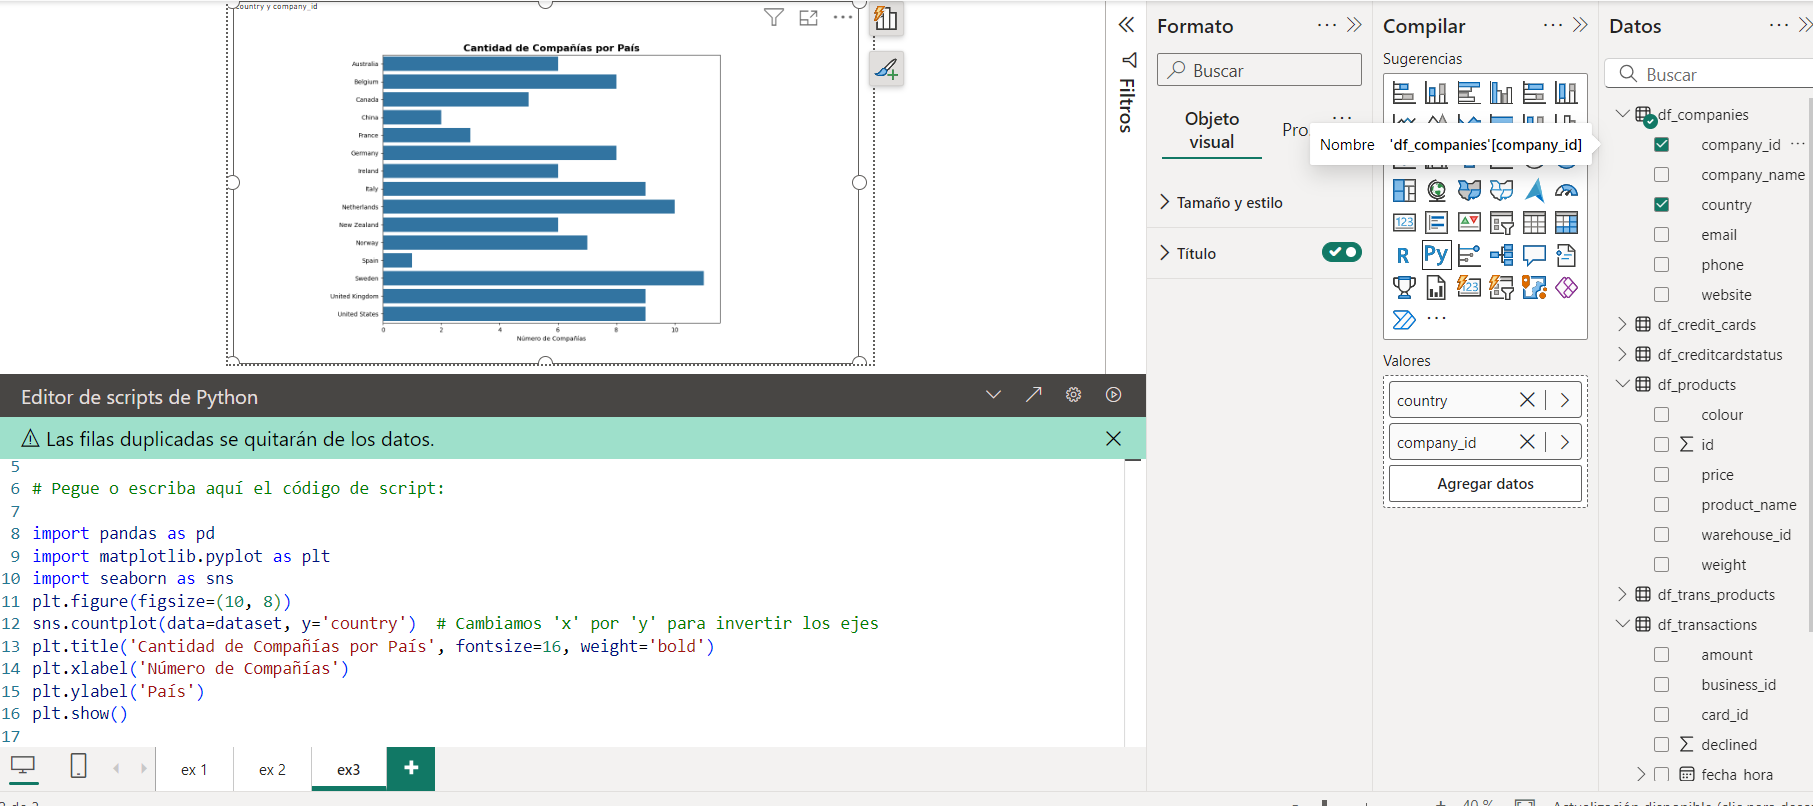

Layout of this report page (visuals, bound fields, positions):
{"tool":"powerbi","page":{"name":"ex 3","canvas":[1280,720],"ordinal":2},"visuals":[{"type":"pythonVisual","fields":{"Values":["df_companies.company_id","df_companies.country"]},"box":[9.9,0,1247.1,701.7],"z":0}]}

Visuals, with their boxes on the page's 1280x720 design canvas (x1, y1, x2, y2). These are canvas units, not pixel positions in the 1813x806 screenshot, which may show the page scaled, cropped or inside an application window:
pythonVisual - df_companies.company_id x df_companies.country: region(10, 0, 1257, 702)
